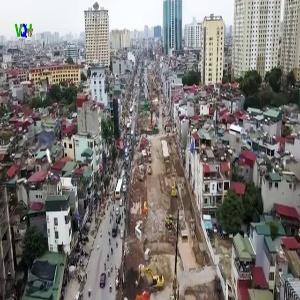drone: (19, 114, 78, 173)
